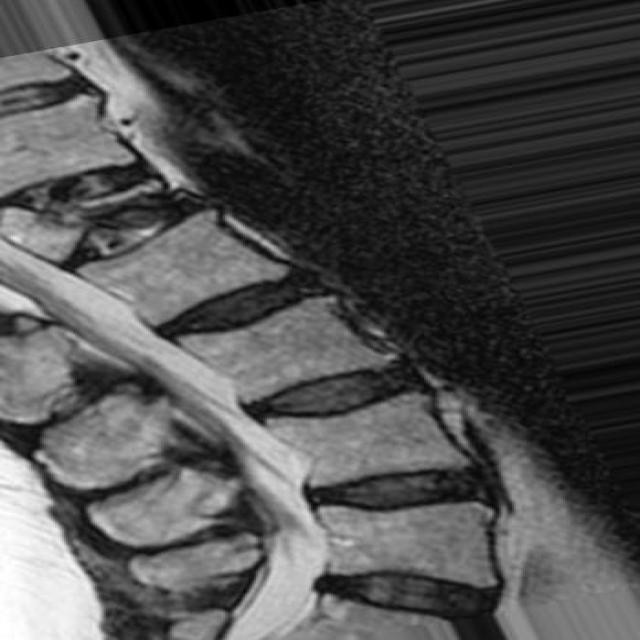Comminuted: (4, 160, 180, 260)
